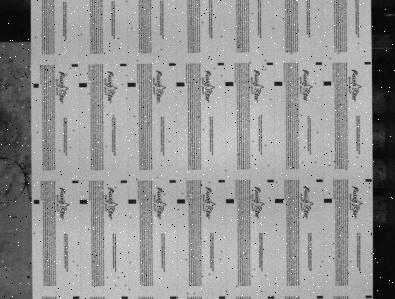backgroundclutter: (27, 276, 31, 279)
incorrect qblock: (33, 83, 39, 88), (34, 200, 39, 205)
qblock: (79, 200, 88, 205), (177, 199, 186, 204), (275, 199, 284, 204), (127, 82, 136, 87), (274, 81, 283, 86), (79, 83, 87, 88), (324, 81, 332, 86), (177, 82, 185, 87), (128, 200, 137, 204), (226, 200, 235, 204), (324, 199, 333, 203), (226, 82, 234, 86)
smallqblock: (218, 62, 225, 66), (121, 180, 128, 184), (365, 295, 372, 299), (218, 296, 226, 299), (169, 180, 177, 183), (218, 180, 226, 183), (71, 64, 78, 67), (121, 296, 128, 299), (72, 296, 79, 299), (170, 296, 177, 299), (120, 63, 127, 66), (317, 296, 324, 299), (316, 62, 323, 65), (169, 63, 176, 66), (267, 62, 274, 65), (72, 181, 79, 184), (268, 180, 275, 183), (365, 62, 372, 65), (366, 179, 373, 182), (268, 296, 274, 299), (317, 180, 324, 182)
